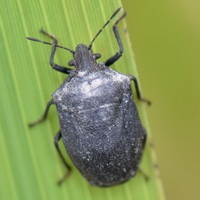insect: (27, 7, 149, 186)
